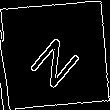N_NE: (23, 23, 87, 87)
